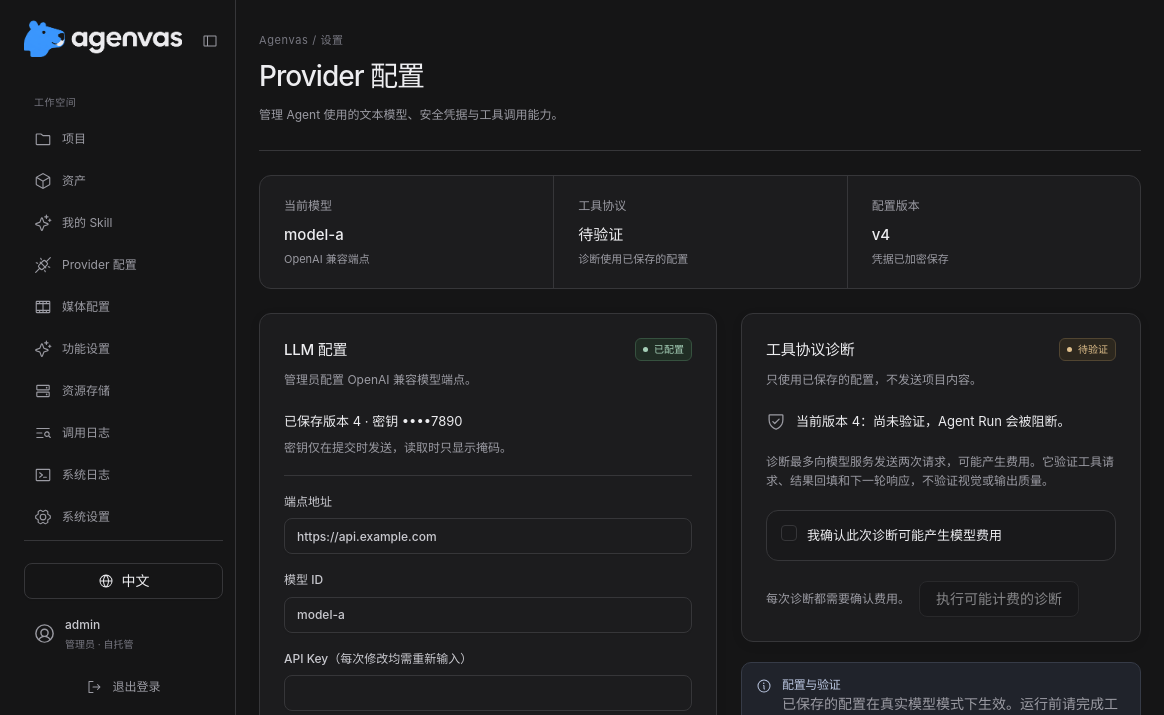
LlmSettingsPage › requires visible cost consent and updates the verified state after a full probe
Expected: the button "执行可能计费的诊断" is disabled, [919, 581, 1079, 617]
What coordinates should you click on to do the following:
click the checkbox named "我确认此次诊断可能产生模型费用"
I would click on:
 (789, 533)
Its box is [781, 525, 797, 541].
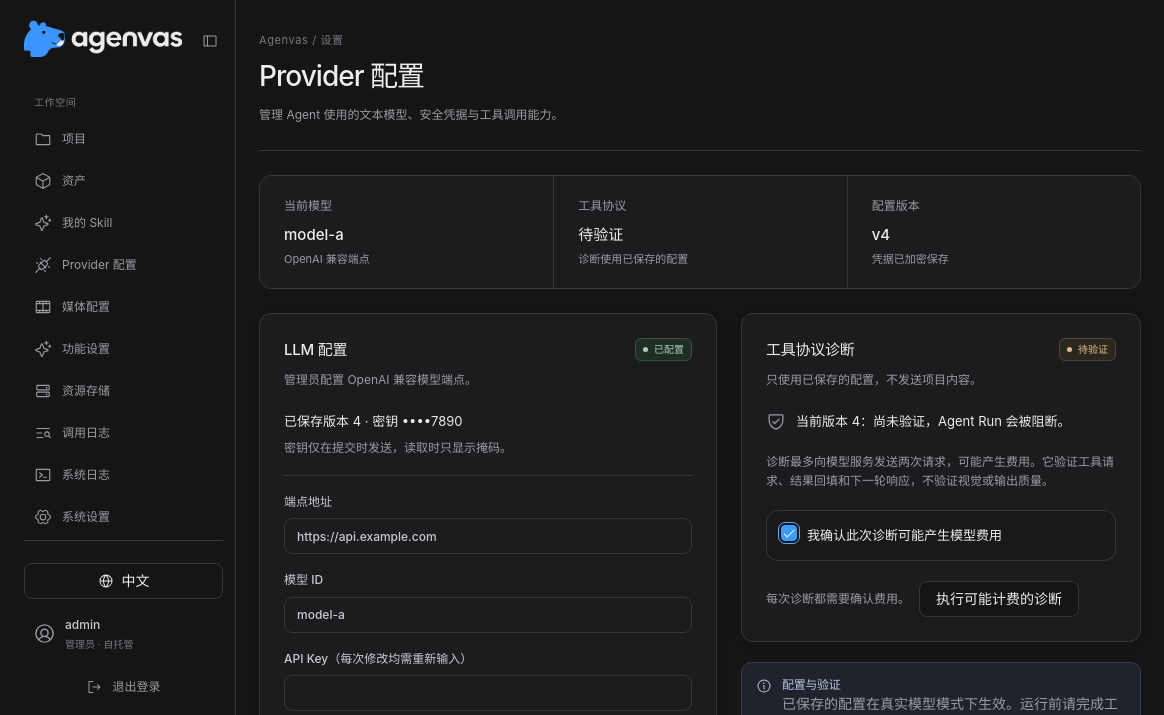
What coordinates should you click on to do the following:
click the button "执行可能计费的诊断"
I would click on:
 (999, 599)
Its box is [919, 581, 1079, 617].
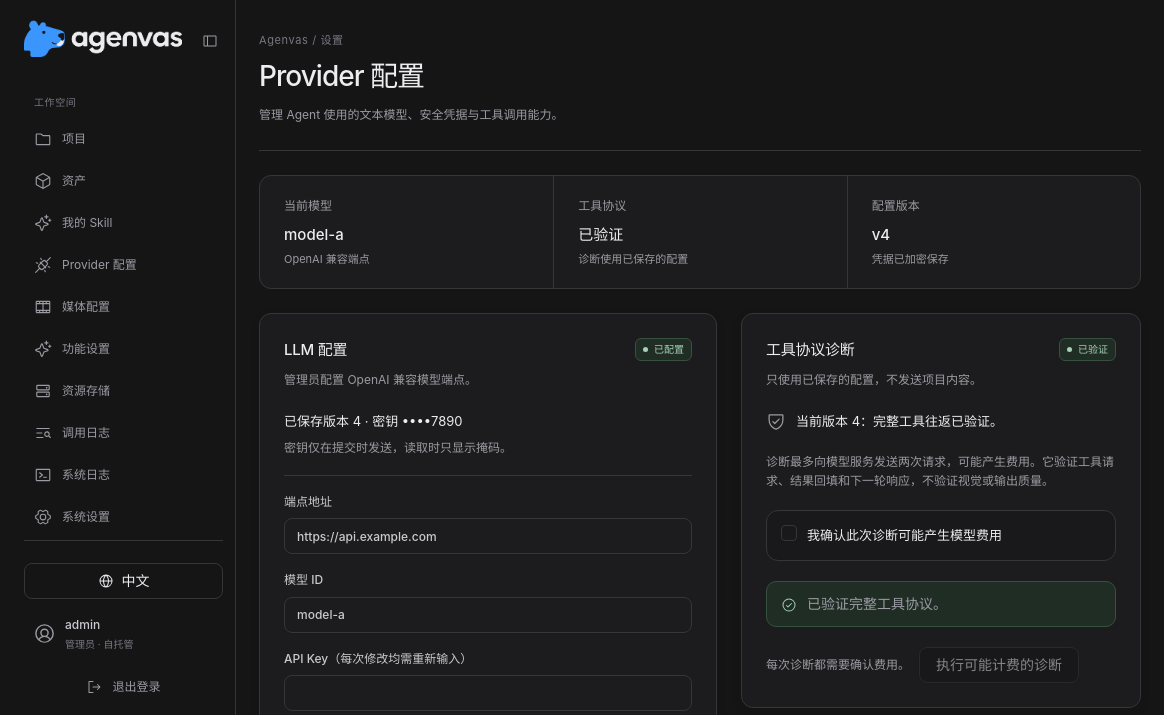
Result: the text "已验证完整工具协议。" is shown at [807, 594, 947, 614]
Result: the text "当前版本 4：完整工具往返已验证。" is shown at [766, 411, 1003, 431]
Result: the button "执行可能计费的诊断" is disabled at [919, 647, 1079, 683]
